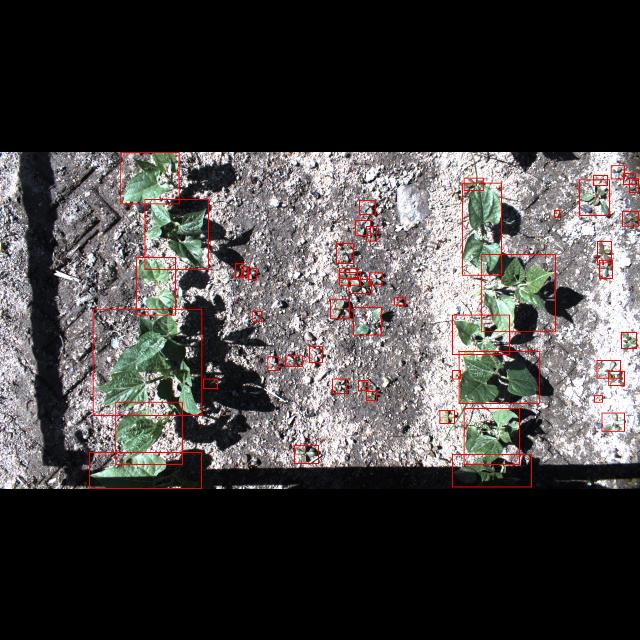crop: (92, 308, 202, 416), (481, 254, 555, 332), (145, 198, 209, 268), (459, 351, 539, 403), (116, 402, 182, 464), (89, 452, 201, 488), (464, 408, 520, 464), (121, 152, 179, 202), (452, 455, 532, 487), (136, 257, 176, 315), (452, 314, 510, 354)
weed: (462, 182, 502, 274), (579, 180, 609, 214), (353, 306, 381, 334), (294, 445, 318, 463), (597, 360, 621, 378), (330, 298, 350, 318), (602, 413, 624, 431), (336, 243, 354, 263), (349, 278, 371, 294), (597, 240, 611, 262), (608, 370, 624, 386), (622, 210, 638, 226), (463, 177, 482, 190), (600, 258, 612, 278), (340, 272, 360, 284), (622, 332, 636, 348), (359, 200, 375, 214), (356, 219, 370, 235), (333, 378, 347, 394), (310, 346, 322, 362), (440, 411, 454, 424), (611, 165, 625, 178), (339, 268, 357, 278), (622, 172, 636, 184), (286, 355, 302, 365), (370, 272, 382, 284), (203, 378, 217, 388), (268, 356, 278, 370), (366, 226, 376, 240), (593, 174, 607, 184), (235, 262, 243, 278), (630, 178, 638, 192), (252, 311, 262, 321), (366, 390, 376, 400), (358, 380, 368, 390), (249, 267, 257, 279), (240, 266, 248, 276), (394, 298, 406, 304), (452, 369, 460, 378), (594, 395, 602, 401), (554, 210, 560, 217)
